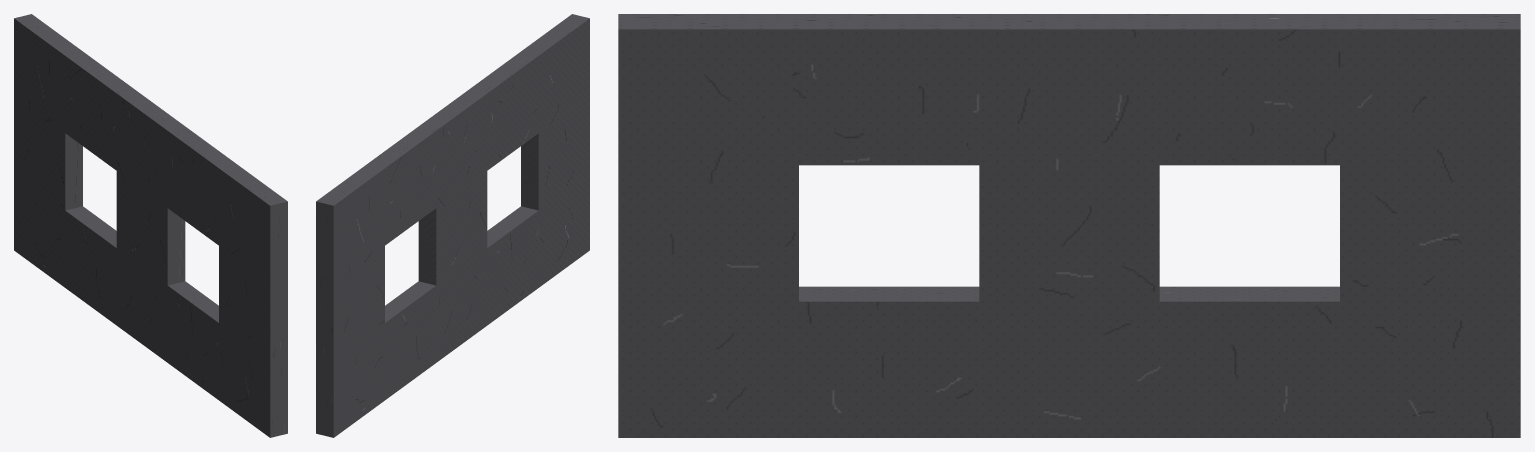
The model's file is Concrete 2_Window Wall.fbx.
3 views of the same model, side by side, from view 1: azimuth 30°, elevation 25°; view 2: azimuth 150°, elevation 25°; view 3: azimuth 270°, elevation 25° (orthographic). The views are drawn at different scales.
Visible parts, largest first — view 1: Concrete 2Window Wall; view 2: Concrete 2Window Wall; view 3: Concrete 2Window Wall.
Boxes of the visible parts, x1,y1,x2,y2 form: Concrete 2Window Wall: (14,14,287,437); Concrete 2Window Wall: (316,14,589,437); Concrete 2Window Wall: (618,14,1520,437).
Size of the model in its own units: 80 by 1000 by 2000.
Materials: 1 (1 with a texture image).
